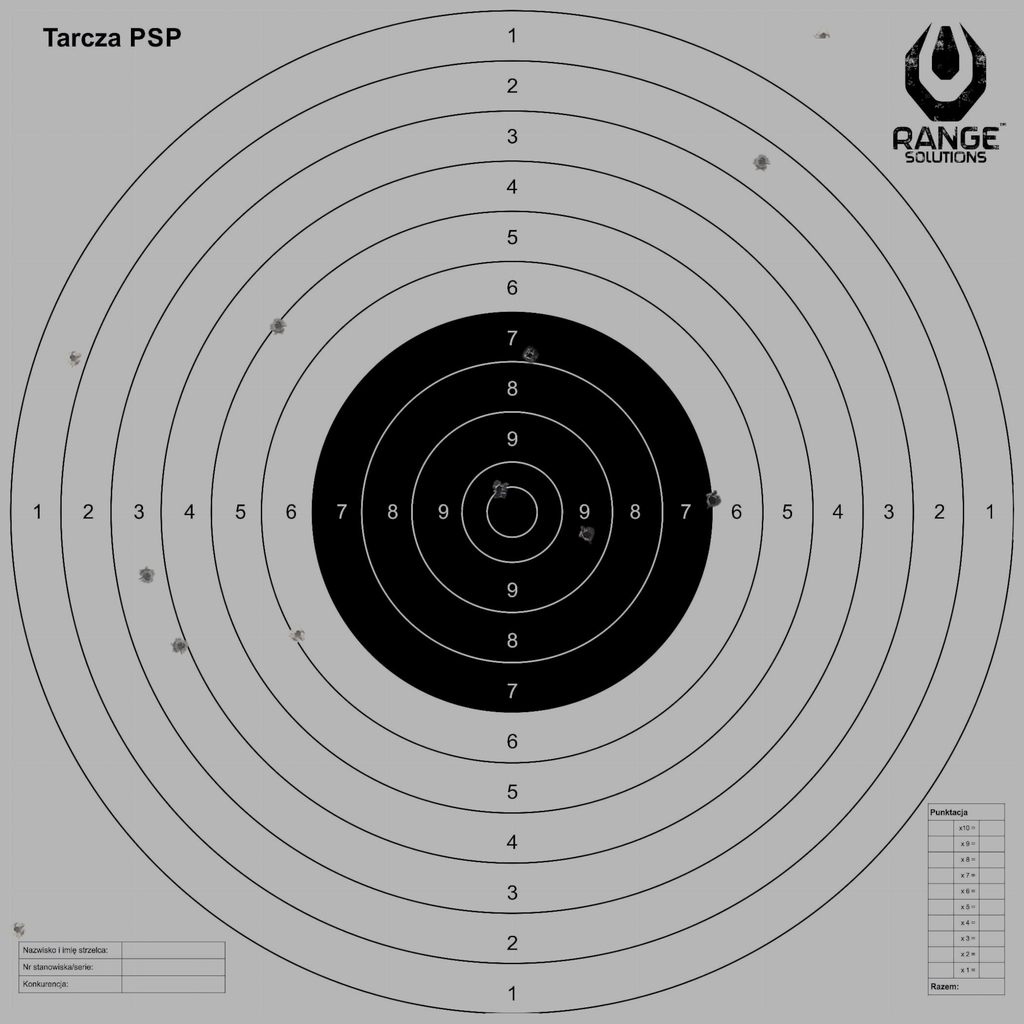0 punktow: (8, 920, 27, 939)
1 punkt: (64, 349, 83, 367)
10 punktow: (490, 481, 509, 499)
2 punkty: (753, 153, 771, 171)
3 punkty: (138, 567, 156, 585)
4 punkty: (171, 637, 190, 655)
5 punktow: (269, 317, 288, 335)
6 punktow: (289, 625, 307, 643)
7 punktow: (703, 491, 721, 509)
8 punktow: (520, 346, 539, 365)
9 punktow: (578, 525, 596, 544)
